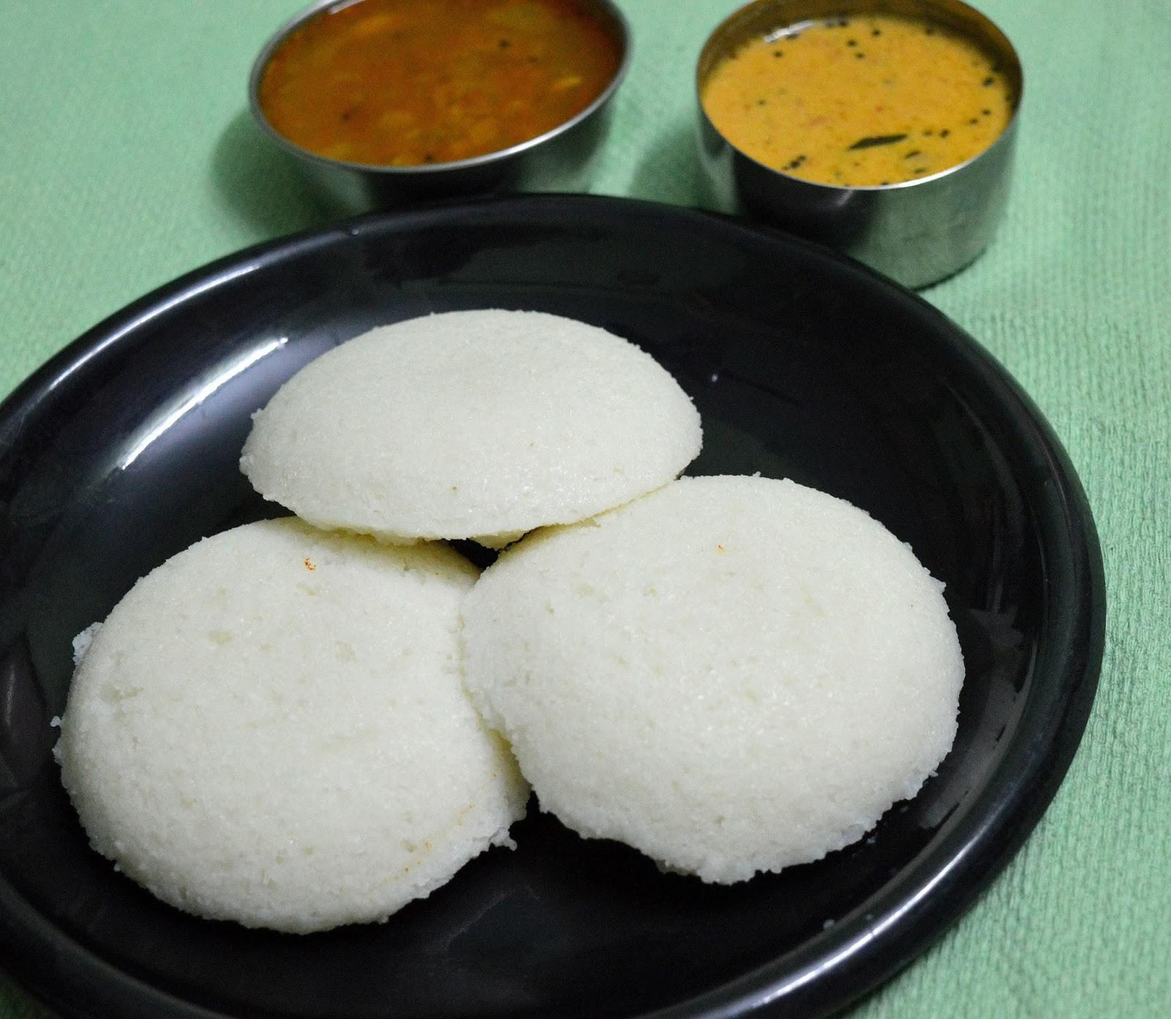Idli: (57, 507, 547, 954), (462, 473, 969, 884), (243, 308, 704, 538)
